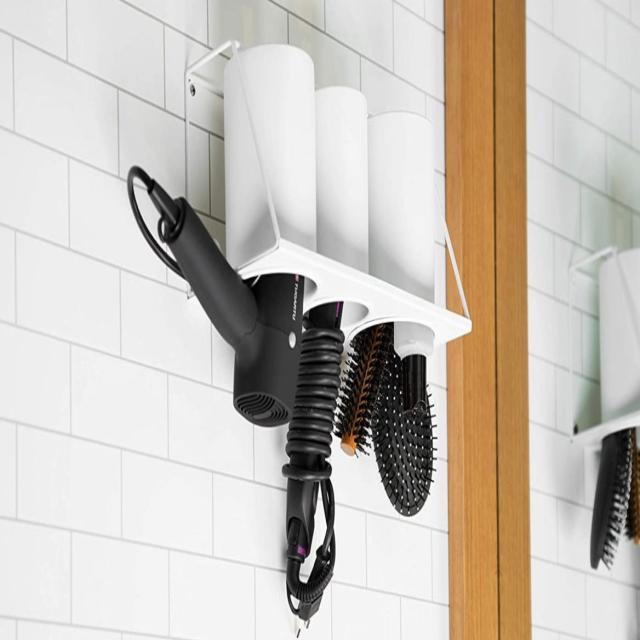dryer: (119, 156, 315, 444)
